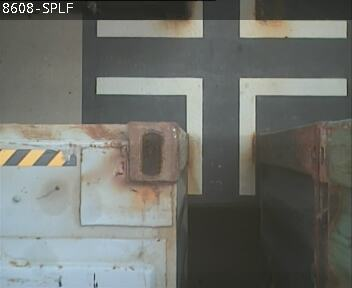groundmarker_1: (96, 75, 346, 194)
